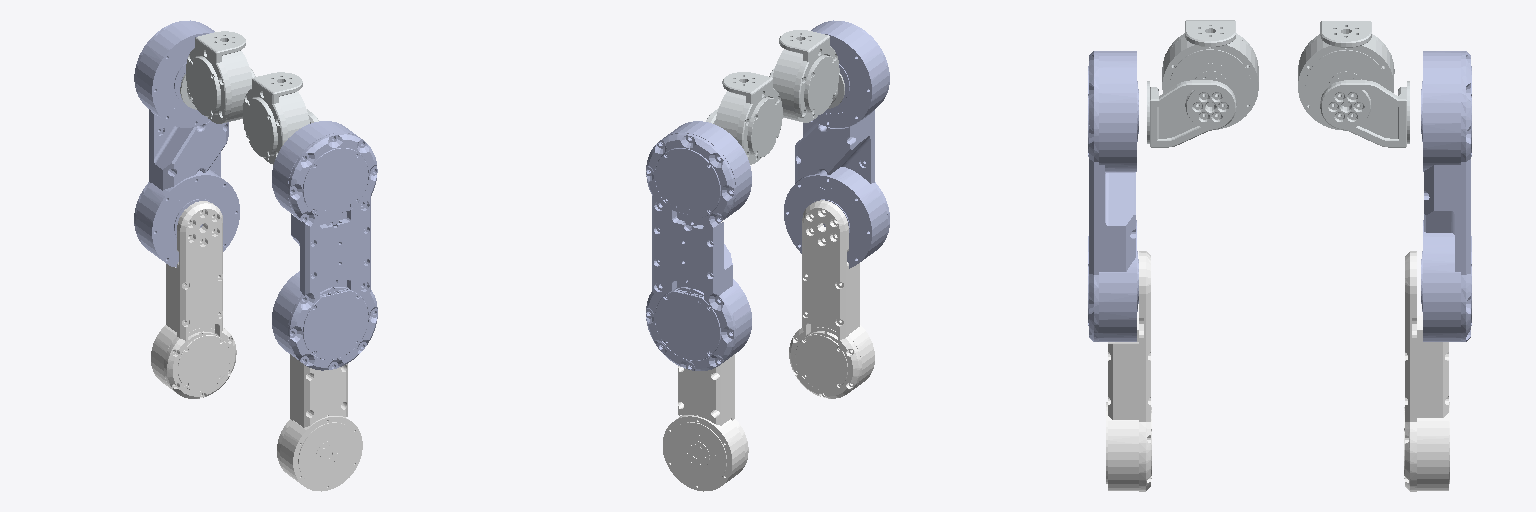
The robot description file, URDF, robot "TinkerV2_URDF":
<?xml version="1.0" encoding="utf-8"?>
<!-- This URDF was automatically created by SolidWorks to URDF Exporter! Originally created by [author] ([email redacted]) 
     Commit Version: 1.6.0-4-g7f85cfe  Build Version: 1.6.7995.38578
     For more information, please see http://wiki.ros.org/sw_urdf_exporter -->
<robot
  name="TinkerV2_URDF">
  <link
    name="base_link">
    <inertial>
      <origin
        xyz="0.0191973307162497 -0.000897919994656132 0.0759941643862994"
        rpy="0 0 0" />
      <mass
        value="4.72255223919314" />
      <inertia
        ixx="0.00981790485893184"
        ixy="0.000185665613392179"
        ixz="0.000239154967746463"
        iyy="0.0101768842092725"
        iyz="-3.80240754502535E-05"
        izz="0.013478798045977" />
    </inertial>
    <visual>
      <origin
        xyz="0 0 0"
        rpy="0 0 0" />
      <geometry>
        <mesh
          filename="package://TinkerV2_URDF/meshes/base_link.STL" />
      </geometry>
      <material
        name="">
        <color
          rgba="0.501960784313725 0.501960784313725 0.501960784313725 1" />
      </material>
    </visual>
    <collision>
      <origin
        xyz="0 0 0"
        rpy="0 0 0" />
      <geometry>
        <mesh
          filename="package://TinkerV2_URDF/meshes/base_link.STL" />
      </geometry>
    </collision>
  </link>
  <link
    name="L0_Link">
    <inertial>
      <origin
        xyz="0.000619765634653893 4.28150829746982E-05 -0.0528764064151365"
        rpy="0 0 0" />
      <mass
        value="0.587331353457417" />
      <inertia
        ixx="0.000679574562891484"
        ixy="6.35938529396535E-07"
        ixz="-2.00604496468451E-06"
        iyy="0.000388522055332698"
        iyz="7.19276925606477E-08"
        izz="0.000394111330183765" />
    </inertial>
    <visual>
      <origin
        xyz="0 0 0"
        rpy="0 0 0" />
      <geometry>
        <mesh
          filename="package://TinkerV2_URDF/meshes/L0_Link.STL" />
      </geometry>
      <material
        name="">
        <color
          rgba="0.898039215686275 0.917647058823529 0.929411764705882 1" />
      </material>
    </visual>
    <collision>
      <origin
        xyz="0 0 0"
        rpy="0 0 0" />
      <geometry>
        <mesh
          filename="package://TinkerV2_URDF/meshes/L0_Link.STL" />
      </geometry>
    </collision>
  </link>
  <joint
    name="J_L0"
    type="revolute">
    <origin
      xyz="-0.002787 0.053542 0.054381"
      rpy="0 0 0" />
    <parent
      link="base_link" />
    <child
      link="L0_Link" />
    <axis
      xyz="0 0 1" />
    <limit
      lower="-1.57"
      upper="1.57"
      effort="12"
      velocity="20" />
  </joint>
  <link
    name="L1_Link">
    <inertial>
      <origin
        xyz="-0.00347150340744003 0.0341575635250294 -0.00920422354080709"
        rpy="0 0 0" />
      <mass
        value="0.0295521887544817" />
      <inertia
        ixx="2.01156742464535E-05"
        ixy="2.92602620521006E-06"
        ixz="-7.57277675706635E-07"
        iyy="9.09722746772408E-06"
        iyz="3.46755992791597E-06"
        izz="1.70589846703653E-05" />
    </inertial>
    <visual>
      <origin
        xyz="0 0 0"
        rpy="0 0 0" />
      <geometry>
        <mesh
          filename="package://TinkerV2_URDF/meshes/L1_Link.STL" />
      </geometry>
      <material
        name="">
        <color
          rgba="0.898039215686275 0.917647058823529 0.929411764705882 1" />
      </material>
    </visual>
    <collision>
      <origin
        xyz="0 0 0"
        rpy="0 0 0" />
      <geometry>
        <mesh
          filename="package://TinkerV2_URDF/meshes/L1_Link.STL" />
      </geometry>
    </collision>
  </link>
  <joint
    name="J_L1"
    type="revolute">
    <origin
      xyz="0.016958 0 -0.053917"
      rpy="0 0 0" />
    <parent
      link="L0_Link" />
    <child
      link="L1_Link" />
    <axis
      xyz="-1 0 0" />
    <limit
      lower="-1.57"
      upper="1.57"
      effort="20"
      velocity="20" />
  </joint>
  <link
    name="L2_Link">
    <inertial>
      <origin
        xyz="-0.000792134004393902 0.0178195463367404 -0.0737982008261337"
        rpy="0 0 0" />
      <mass
        value="1.34863094594399" />
      <inertia
        ixx="0.00129423808911511"
        ixy="-1.85215677306796E-07"
        ixz="-1.27421115593987E-05"
        iyy="0.00198392746136237"
        iyz="-1.28976667559675E-06"
        izz="0.000901841739960808" />
    </inertial>
    <visual>
      <origin
        xyz="0 0 0"
        rpy="0 0 0" />
      <geometry>
        <mesh
          filename="package://TinkerV2_URDF/meshes/L2_Link.STL" />
      </geometry>
      <material
        name="">
        <color
          rgba="0.792156862745098 0.819607843137255 0.933333333333333 1" />
      </material>
    </visual>
    <collision>
      <origin
        xyz="0 0 0"
        rpy="0 0 0" />
      <geometry>
        <mesh
          filename="package://TinkerV2_URDF/meshes/L2_Link.STL" />
      </geometry>
    </collision>
  </link>
  <joint
    name="J_L2"
    type="revolute">
    <origin
      xyz="-0.012958 0.059001 -0.014313"
      rpy="0 0 0" />
    <parent
      link="L1_Link" />
    <child
      link="L2_Link" />
    <axis
      xyz="0 1 0" />
    <limit
      lower="-1.57"
      upper="1.57"
      effort="20"
      velocity="20" />
  </joint>
  <link
    name="L3_Link">
    <inertial>
      <origin
        xyz="-4.78959695469905E-06 0.00800400502048923 -0.121850966704469"
        rpy="0 0 0" />
      <mass
        value="0.629727076499127" />
      <inertia
        ixx="0.000532562144393527"
        ixy="-3.7728134151506E-09"
        ixz="-3.45474873647074E-09"
        iyy="0.000692863896298871"
        iyz="5.60689853527592E-07"
        izz="0.000215617766048769" />
    </inertial>
    <visual>
      <origin
        xyz="0 0 0"
        rpy="0 0 0" />
      <geometry>
        <mesh
          filename="package://TinkerV2_URDF/meshes/L3_Link.STL" />
      </geometry>
      <material
        name="">
        <color
          rgba="1 1 1 1" />
      </material>
    </visual>
    <collision>
      <origin
        xyz="0 0 0"
        rpy="0 0 0" />
      <geometry>
        <mesh
          filename="package://TinkerV2_URDF/meshes/L3_Link.STL" />
      </geometry>
    </collision>
  </link>
  <joint
    name="J_L3"
    type="revolute">
    <origin
      xyz="0 0 -0.14738"
      rpy="0 0 0" />
    <parent
      link="L2_Link" />
    <child
      link="L3_Link" />
    <axis
      xyz="0 1 0" />
    <limit
      lower="-1.57"
      upper="1.57"
      effort="20"
      velocity="20" />
  </joint>
  <link
    name="L4_Link_ankle">
    <inertial>
      <origin
        xyz="0.0117863373334438 -0.00675302646643325 -0.0296425502455308"
        rpy="0 0 0" />
      <mass
        value="0.171742682777178" />
      <inertia
        ixx="4.69796687547755E-05"
        ixy="3.58937955264407E-06"
        ixz="3.63374508552524E-06"
        iyy="0.000315299126304912"
        iyz="-5.96116241048033E-06"
        izz="0.000323351986881265" />
    </inertial>
    <visual>
      <origin
        xyz="0 0 0"
        rpy="0 0 0" />
      <geometry>
        <mesh
          filename="package://TinkerV2_URDF/meshes/L4_Link_ankle.STL" />
      </geometry>
      <material
        name="">
        <color
          rgba="1 1 1 1" />
      </material>
    </visual>
    <collision>
      <origin
        xyz="0 0 0"
        rpy="0 0 0" />
      <geometry>
        <mesh
          filename="package://TinkerV2_URDF/meshes/L4_Link_ankle.STL" />
      </geometry>
    </collision>
  </link>
  <joint
    name="J_L4_ankle"
    type="revolute">
    <origin
      xyz="0 0.025 -0.14049"
      rpy="0 0 0" />
    <parent
      link="L3_Link" />
    <child
      link="L4_Link_ankle" />
    <axis
      xyz="0 -1 0" />
    <limit
      lower="-1.57"
      upper="1.57"
      effort="12"
      velocity="20" />
  </joint>
  <link
    name="R0_Link">
    <inertial>
      <origin
        xyz="0.000619765633283198 -6.07774382760072E-05 -0.0528236158498482"
        rpy="0 0 0" />
      <mass
        value="0.587331353381893" />
      <inertia
        ixx="0.000679574562830091"
        ixy="-6.95388354708518E-07"
        ixz="-1.16330844642069E-06"
        iyy="0.000388522055270403"
        iyz="7.19277121372076E-08"
        izz="0.000394111330166793" />
    </inertial>
    <visual>
      <origin
        xyz="0 0 0"
        rpy="0 0 0" />
      <geometry>
        <mesh
          filename="package://TinkerV2_URDF/meshes/R0_Link.STL" />
      </geometry>
      <material
        name="">
        <color
          rgba="0.898039215686275 0.917647058823529 0.929411764705882 1" />
      </material>
    </visual>
    <collision>
      <origin
        xyz="0 0 0"
        rpy="0 0 0" />
      <geometry>
        <mesh
          filename="package://TinkerV2_URDF/meshes/R0_Link.STL" />
      </geometry>
    </collision>
  </link>
  <joint
    name="J_R0"
    type="revolute">
    <origin
      xyz="-0.002787 -0.053184 0.054381"
      rpy="0 0 0" />
    <parent
      link="base_link" />
    <child
      link="R0_Link" />
    <axis
      xyz="0 0 1" />
    <limit
      lower="-1.57"
      upper="1.57"
      effort="12"
      velocity="20" />
  </joint>
  <link
    name="R1_Link">
    <inertial>
      <origin
        xyz="-0.00347132375249927 -0.034156693924089 -0.0092040577765706"
        rpy="0 0 0" />
      <mass
        value="0.029551251476222" />
      <inertia
        ixx="2.01147208072505E-05"
        ixy="-2.92579511895536E-06"
        ixz="-7.57224769336987E-07"
        iyy="9.09689869241228E-06"
        iyz="-3.46737843303799E-06"
        izz="1.70580224435408E-05" />
    </inertial>
    <visual>
      <origin
        xyz="0 0 0"
        rpy="0 0 0" />
      <geometry>
        <mesh
          filename="package://TinkerV2_URDF/meshes/R1_Link.STL" />
      </geometry>
      <material
        name="">
        <color
          rgba="0.898039215686275 0.917647058823529 0.929411764705882 1" />
      </material>
    </visual>
    <collision>
      <origin
        xyz="0 0 0"
        rpy="0 0 0" />
      <geometry>
        <mesh
          filename="package://TinkerV2_URDF/meshes/R1_Link.STL" />
      </geometry>
    </collision>
  </link>
  <joint
    name="J_R1"
    type="revolute">
    <origin
      xyz="0.016958 0 -0.053917"
      rpy="0 0 0" />
    <parent
      link="R0_Link" />
    <child
      link="R1_Link" />
    <axis
      xyz="-1 0 0" />
    <limit
      lower="-1.57"
      upper="1.57"
      effort="20"
      velocity="20" />
  </joint>
  <link
    name="R2_Link">
    <inertial>
      <origin
        xyz="-0.000791325692475933 -0.0178404338194351 -0.0737102397834983"
        rpy="0 0 0" />
      <mass
        value="1.35023891621348" />
      <inertia
        ixx="0.00129479834886649"
        ixy="1.89288275232469E-07"
        ixz="1.3580308094523E-05"
        iyy="0.00198470975774013"
        iyz="-1.19386485111444E-06"
        izz="0.00090206400749835" />
    </inertial>
    <visual>
      <origin
        xyz="0 0 0"
        rpy="0 0 0" />
      <geometry>
        <mesh
          filename="package://TinkerV2_URDF/meshes/R2_Link.STL" />
      </geometry>
      <material
        name="">
        <color
          rgba="0.792156862745098 0.819607843137255 0.933333333333333 1" />
      </material>
    </visual>
    <collision>
      <origin
        xyz="0 0 0"
        rpy="0 0 0" />
      <geometry>
        <mesh
          filename="package://TinkerV2_URDF/meshes/R2_Link.STL" />
      </geometry>
    </collision>
  </link>
  <joint
    name="J_R2"
    type="revolute">
    <origin
      xyz="-0.012958 -0.059 -0.014313"
      rpy="0 0 0" />
    <parent
      link="R1_Link" />
    <child
      link="R2_Link" />
    <axis
      xyz="0 -1 0" />
    <limit
      lower="-1.57"
      upper="1.57"
      effort="20"
      velocity="-2" />
  </joint>
  <link
    name="R3_Link">
    <inertial>
      <origin
        xyz="2.2396603683833E-05 -0.00733283067364296 -0.117588903345598"
        rpy="0 0 0" />
      <mass
        value="0.511661896307101" />
      <inertia
        ixx="0.000485297776959414"
        ixy="1.48188072321711E-08"
        ixz="2.40996895467847E-08"
        iyy="0.000609655277025697"
        iyz="-4.96142654991589E-07"
        izz="0.000168053491940784" />
    </inertial>
    <visual>
      <origin
        xyz="0 0 0"
        rpy="0 0 0" />
      <geometry>
        <mesh
          filename="package://TinkerV2_URDF/meshes/R3_Link.STL" />
      </geometry>
      <material
        name="">
        <color
          rgba="1 1 1 1" />
      </material>
    </visual>
    <collision>
      <origin
        xyz="0 0 0"
        rpy="0 0 0" />
      <geometry>
        <mesh
          filename="package://TinkerV2_URDF/meshes/R3_Link.STL" />
      </geometry>
    </collision>
  </link>
  <joint
    name="J_R3"
    type="revolute">
    <origin
      xyz="0 0 -0.14738"
      rpy="0 0 0" />
    <parent
      link="R2_Link" />
    <child
      link="R3_Link" />
    <axis
      xyz="0 -1 0" />
    <limit
      lower="-1.57"
      upper="1.57"
      effort="20"
      velocity="20" />
  </joint>
  <link
    name="R4_Link_ankle">
    <inertial>
      <origin
        xyz="0.011786 0.0067411 -0.029643"
        rpy="0 0 0" />
      <mass
        value="0.17174" />
      <inertia
        ixx="4.698E-05"
        ixy="-3.5894E-06"
        ixz="3.6337E-06"
        iyy="0.0003153"
        iyz="5.9612E-06"
        izz="0.00032335" />
    </inertial>
    <visual>
      <origin
        xyz="0 0 0"
        rpy="0 0 0" />
      <geometry>
        <mesh
          filename="package://TinkerV2_URDF/meshes/R4_Link_ankle.STL" />
      </geometry>
      <material
        name="">
        <color
          rgba="1 0.90588 0.91765 1" />
      </material>
    </visual>
    <collision>
      <origin
        xyz="0 0 0"
        rpy="0 0 0" />
      <geometry>
        <mesh
          filename="package://TinkerV2_URDF/meshes/R4_Link_ankle.STL" />
      </geometry>
    </collision>
  </link>
  <joint
    name="J_R4_ankle"
    type="revolute">
    <origin
      xyz="0 -0.025 -0.14049"
      rpy="0 0 0" />
    <parent
      link="R3_Link" />
    <child
      link="R4_Link_ankle" />
    <axis
      xyz="0 1 0" />
    <limit
      lower="-1.57"
      upper="1.57"
      effort="12"
      velocity="20" />
  </joint>
</robot>

--- Facts derived from the render (not from the file) ---
Views: 3 orthographic renders of the robot side by side, from view 1: azimuth 30°, elevation 25°; view 2: azimuth 150°, elevation 25°; view 3: azimuth 270°, elevation 25°.
Robot: TinkerV2_URDF — 11 links, 10 joints (10 revolute); root link base_link; default pose: all joints at 0.
Visible links, largest first — view 1: R2_Link, L2_Link, L3_Link, R3_Link, L0_Link, R0_Link; view 2: L2_Link, R2_Link, R3_Link, L3_Link, R0_Link, L0_Link; view 3: L2_Link, R2_Link, L3_Link, R3_Link, R0_Link, L0_Link, L1_Link, R1_Link.
Boxes of the visible links, x1,y1,x2,y2 form: R2_Link: (272, 121, 377, 370); L2_Link: (134, 20, 239, 267); L3_Link: (151, 201, 236, 398); R3_Link: (277, 354, 362, 491); L0_Link: (186, 31, 252, 123); R0_Link: (243, 72, 309, 164); L2_Link: (646, 121, 751, 370); R2_Link: (784, 20, 889, 268); R3_Link: (789, 200, 874, 398); L3_Link: (663, 354, 748, 491); R0_Link: (773, 30, 839, 122); L0_Link: (715, 72, 782, 164); L2_Link: (1421, 51, 1471, 341); R2_Link: (1088, 51, 1138, 341); L3_Link: (1404, 251, 1449, 491); R3_Link: (1106, 251, 1151, 491); R0_Link: (1162, 20, 1258, 129); L0_Link: (1298, 21, 1394, 130); L1_Link: (1320, 80, 1409, 147); R1_Link: (1147, 80, 1236, 147).
Bounding box of the posed robot: 0.096 × 0.3022 × 0.3941 m (x, y, z).
8 mesh visuals loaded from 11 distinct referenced files (8 binary STL); not drawn: 3 (reference not matched to a file when rendering).